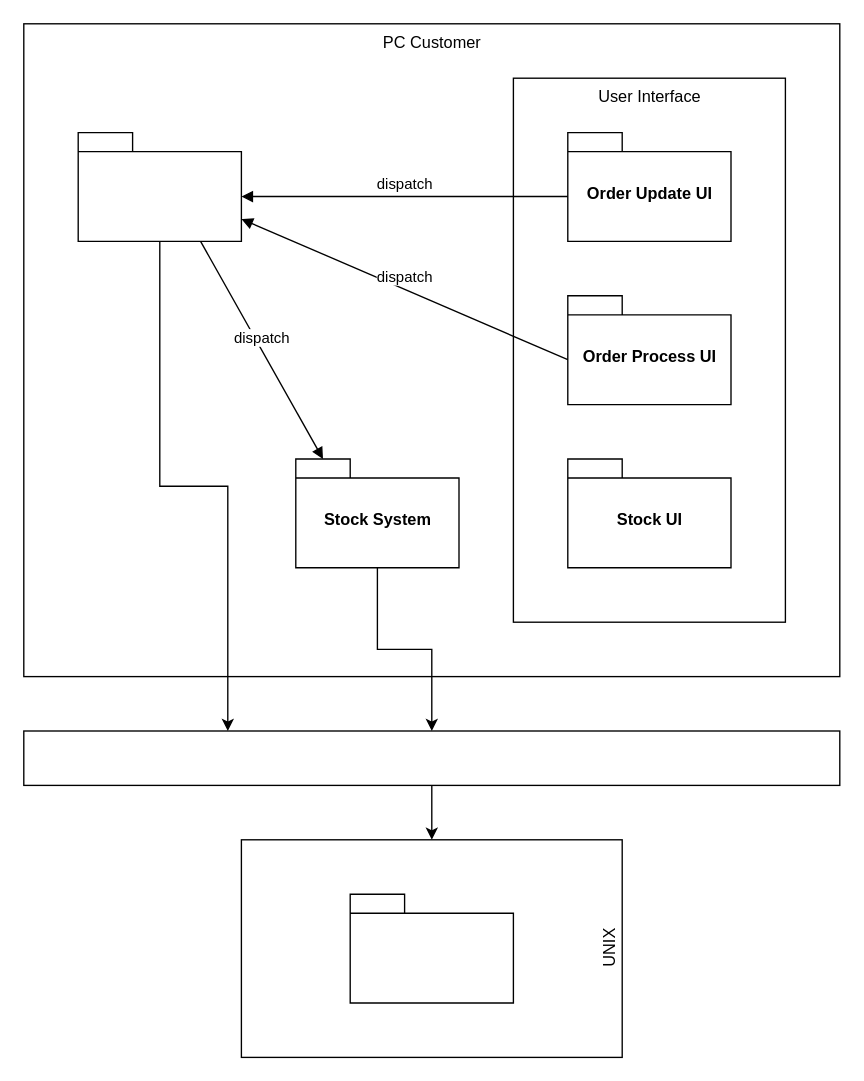
This 864x1081 diagram has some shape labels left out. The shapes that lost their labels are listed below. From the top down, each one's centre as x and y in pixels, then its label:
At point (159, 186): "Order Framework".
At point (431, 757): "LAN".
At point (431, 948): "Order Warehouse".
